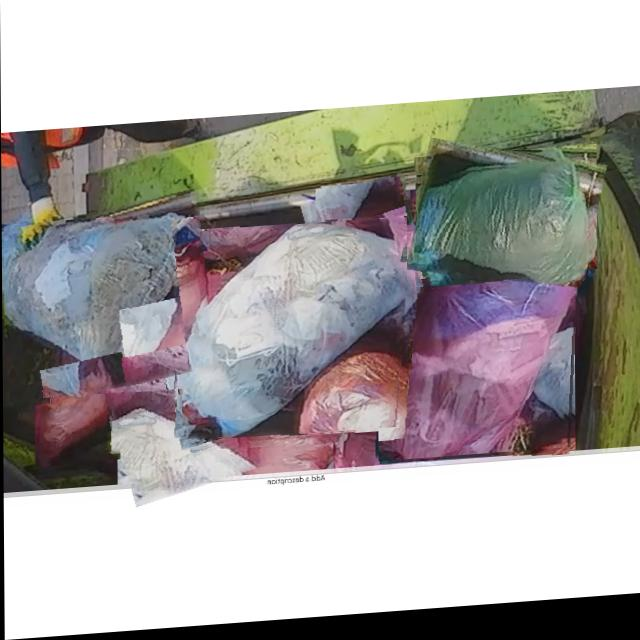general_trashbag: (406, 169, 588, 293)
other_trashbag: (181, 228, 407, 442), (377, 287, 577, 465), (2, 216, 199, 396), (107, 341, 332, 449), (328, 185, 429, 344), (115, 313, 232, 413), (34, 359, 115, 466)
